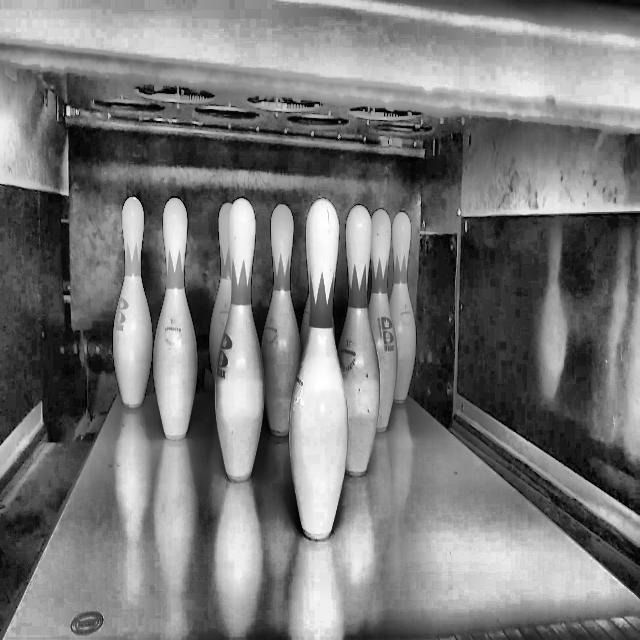bowling-pins: (289, 198, 348, 540), (215, 197, 264, 480), (338, 204, 380, 476), (153, 197, 197, 440), (261, 203, 301, 436), (112, 196, 152, 407), (369, 209, 398, 432), (390, 212, 416, 402), (209, 202, 231, 384)
